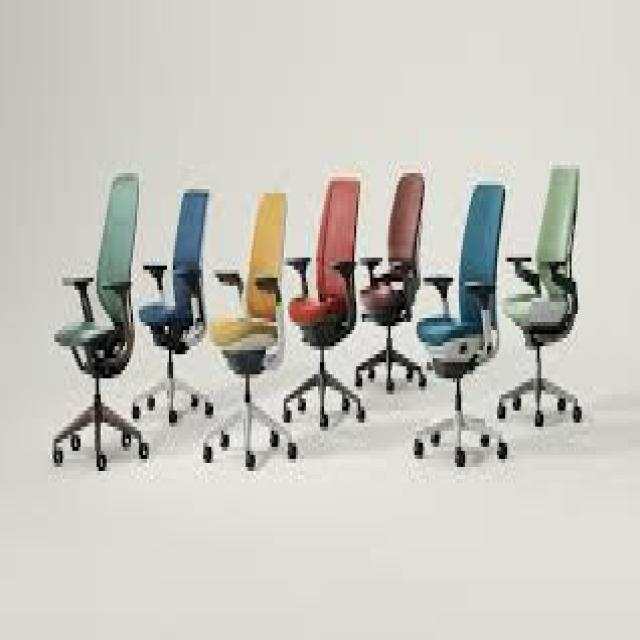chair: (17, 126, 146, 514), (380, 128, 510, 504), (195, 146, 302, 526), (486, 145, 612, 467), (257, 137, 376, 450), (340, 149, 438, 429), (130, 147, 210, 472)
